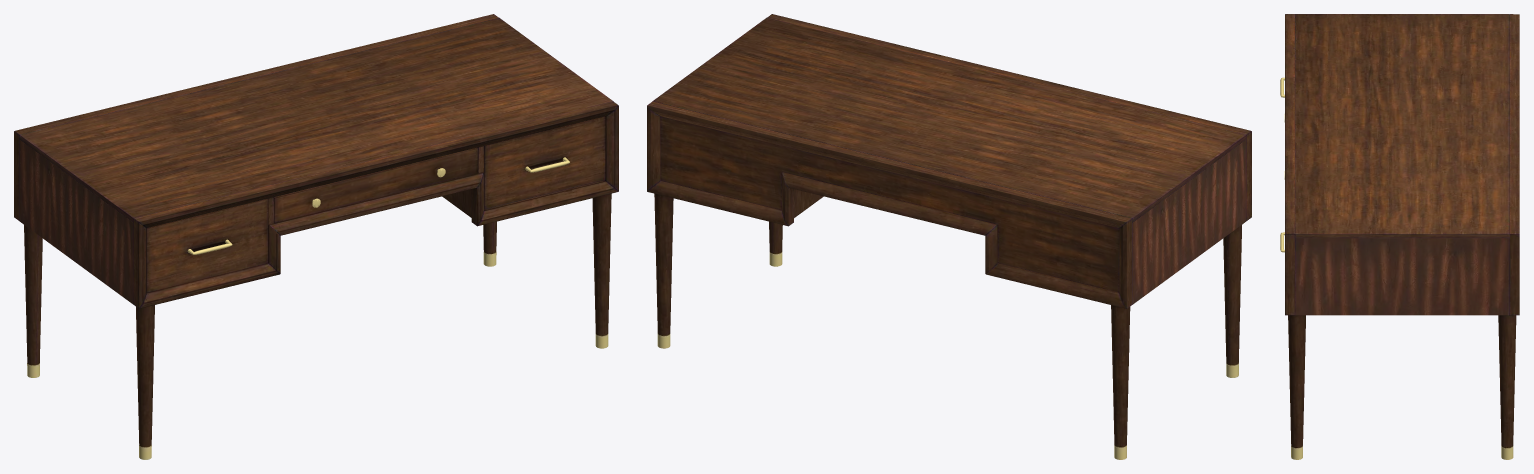
3 renders of one model, left to right at view 1: azimuth 30°, elevation 25°; view 2: azimuth 150°, elevation 25°; view 3: azimuth 270°, elevation 25°, orthographic. The views are drawn at different scales.
Parts seen in each view (by area): view 1: RootNode; view 2: RootNode; view 3: RootNode.
Boxes of the visible parts, x1,y1,x2,y2 form: RootNode: (14,14,618,459); RootNode: (647,14,1251,459); RootNode: (1280,14,1519,459).
Size of the model in its own units: 1.57 by 0.7617 by 0.7244.
Materials: 1 (1 with a texture image).
